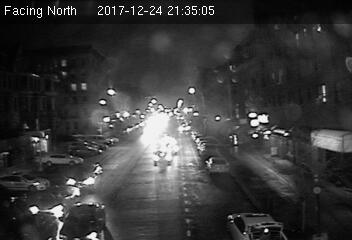car: (223, 209, 289, 240), (57, 202, 111, 239), (29, 185, 83, 215), (65, 163, 104, 190), (205, 156, 230, 174), (152, 148, 173, 165)
